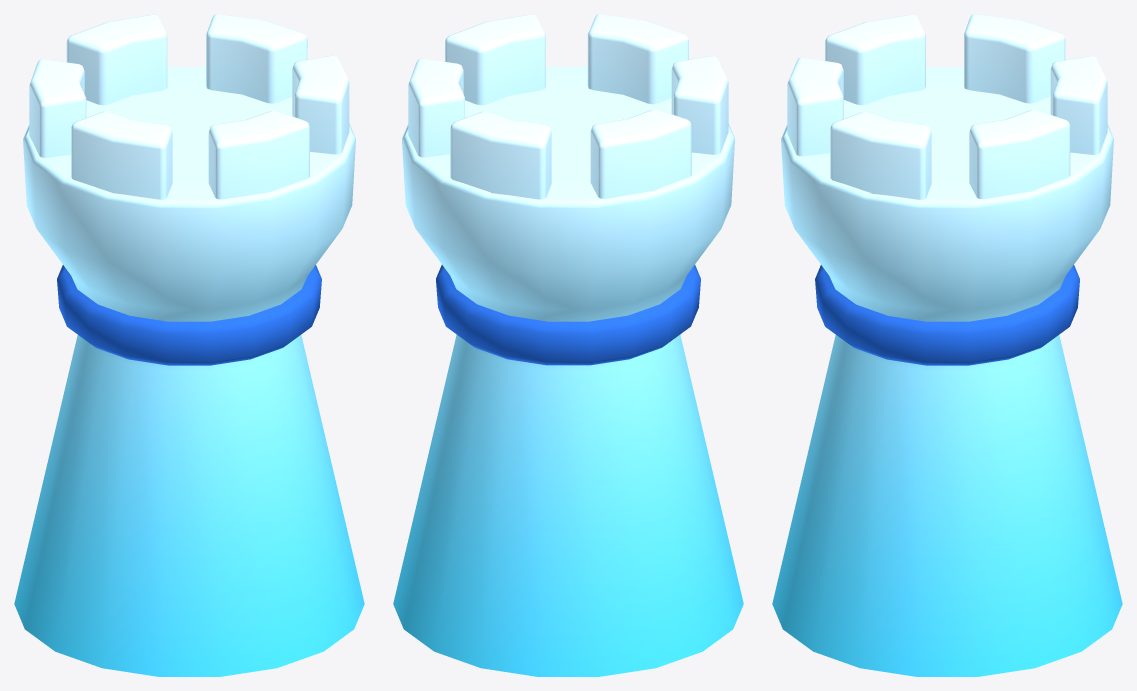
Rendered from tower_003.glb.
3 renders of one model, left to right at view 1: azimuth 30°, elevation 25°; view 2: azimuth 150°, elevation 25°; view 3: azimuth 270°, elevation 25°, orthographic.
Parts seen in each view (by area): view 1: tower_003; view 2: tower_003; view 3: tower_003.
Boxes of the visible parts, x1,y1,x2,y2 form: tower_003: [14, 14, 364, 676]; tower_003: [393, 14, 743, 676]; tower_003: [772, 14, 1122, 676].
Size of the model in its own units: 4.77 by 8.03 by 4.84.
Materials: 1 (1 with a texture image).
